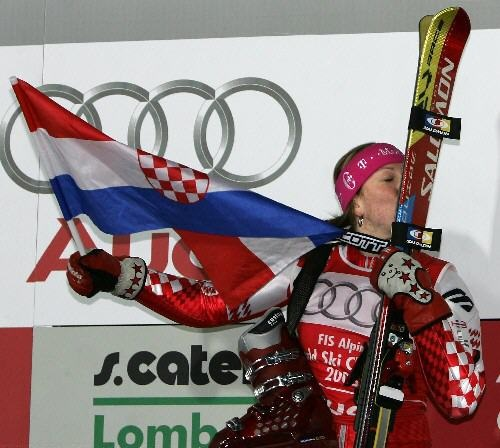face: (360, 158, 420, 229)
